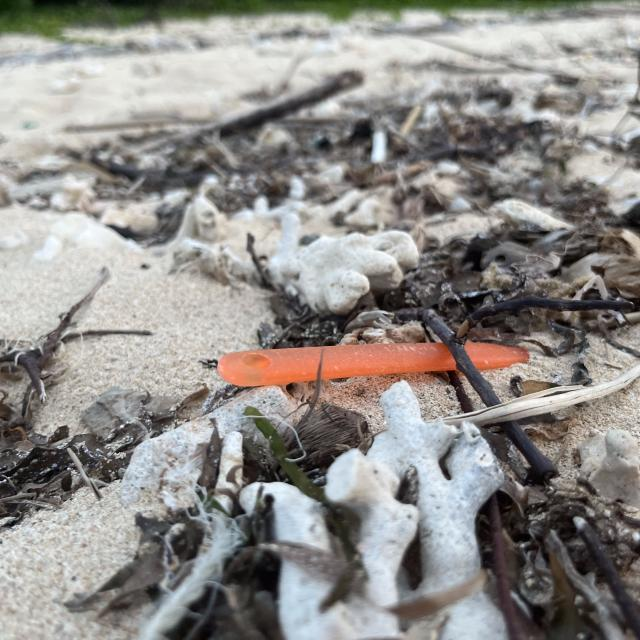coral: (249, 379, 547, 640), (272, 208, 424, 316)
stick: (426, 302, 640, 628), (143, 55, 376, 178)
trash: (213, 343, 528, 391)
